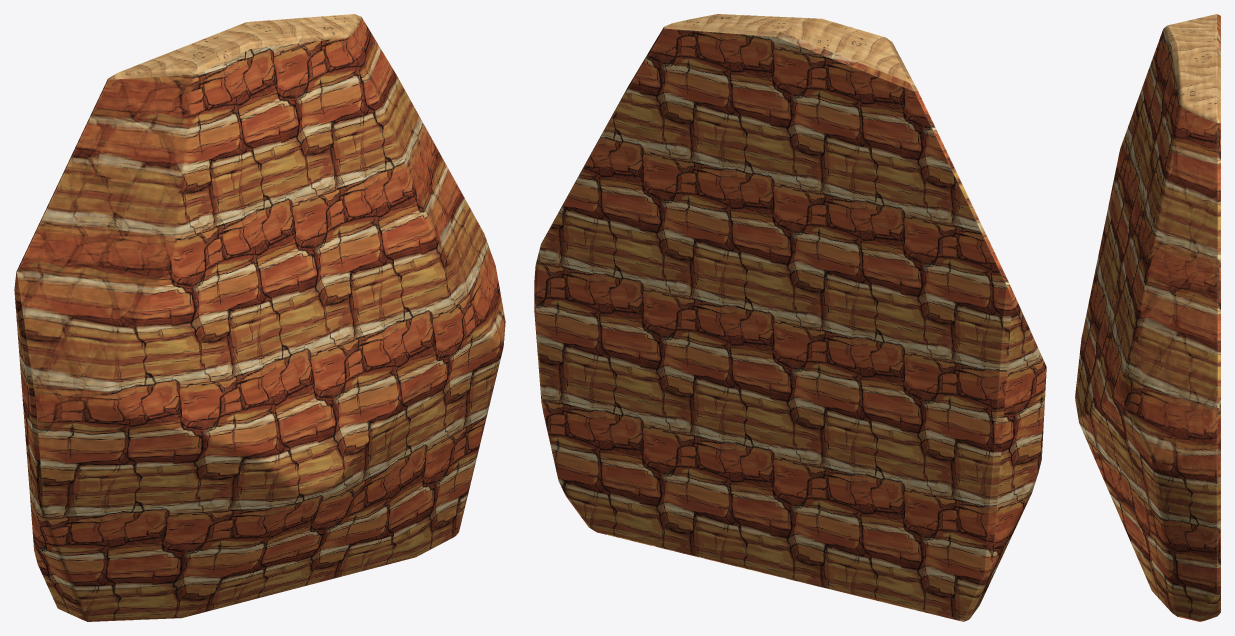
File: v4_cliff_w_04.glb
3 renders of one model, left to right at view 1: azimuth 30°, elevation 25°; view 2: azimuth 150°, elevation 25°; view 3: azimuth 270°, elevation 25°, orthographic. The views are drawn at different scales.
Visible parts, largest first — view 1: v4_cliff_w_04; view 2: v4_cliff_w_04; view 3: v4_cliff_w_04.
Boxes of the visible parts, x1,y1,x2,y2 form: v4_cliff_w_04: (14, 14, 505, 621); v4_cliff_w_04: (534, 14, 1046, 621); v4_cliff_w_04: (1075, 14, 1220, 621).
Bounding box in the file's own units: 7.46 × 8 × 2.18.
1 material, 1 textured.
